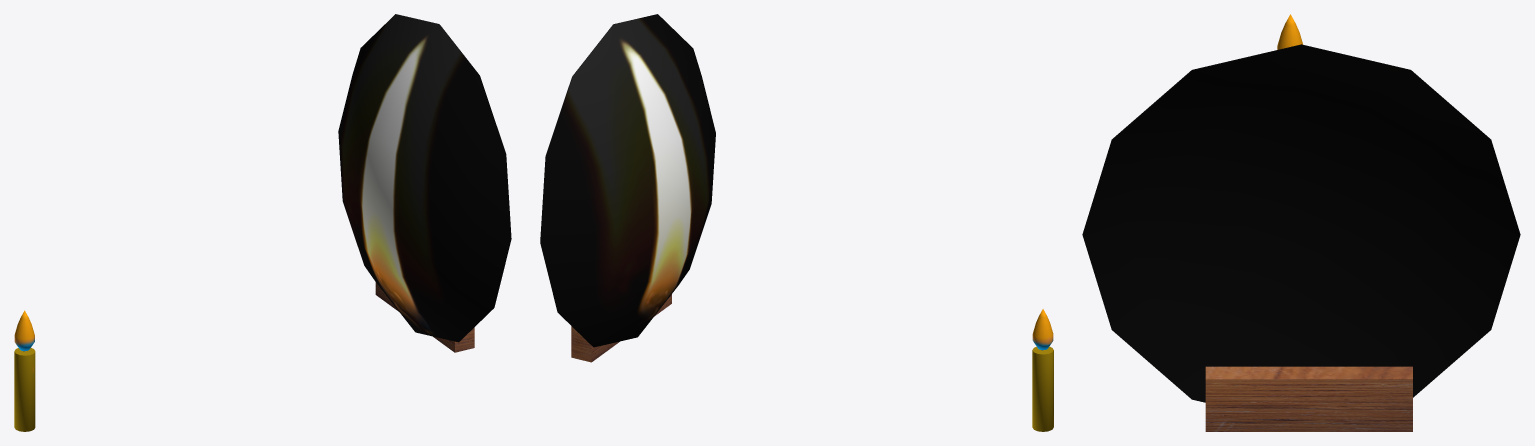
File: first.fbx
3 views of the same model, side by side, from view 1: azimuth 30°, elevation 25°; view 2: azimuth 150°, elevation 25°; view 3: azimuth 270°, elevation 25° (orthographic). The views are drawn at different scales.
Parts seen in each view (by area): view 1: concave1, pCylinder32, pCube10; view 2: concave1, pCylinder32, pCube10; view 3: concave1, pCube10, pCylinder32.
Part boxes in pixels (x1,y1,x2,y2): concave1: (338,14,511,342); pCylinder32: (14,310,35,431); pCube10: (375,282,474,352); concave1: (540,14,715,347); pCylinder32: (1032,309,1053,431); pCube10: (571,294,671,362); concave1: (1082,44,1520,402); pCube10: (1205,366,1412,431); pCylinder32: (1277,14,1302,49).
Bounding box in the file's own units: 61.8 × 41.71 × 41.85.
Materials: 3 (3 with a texture image).
